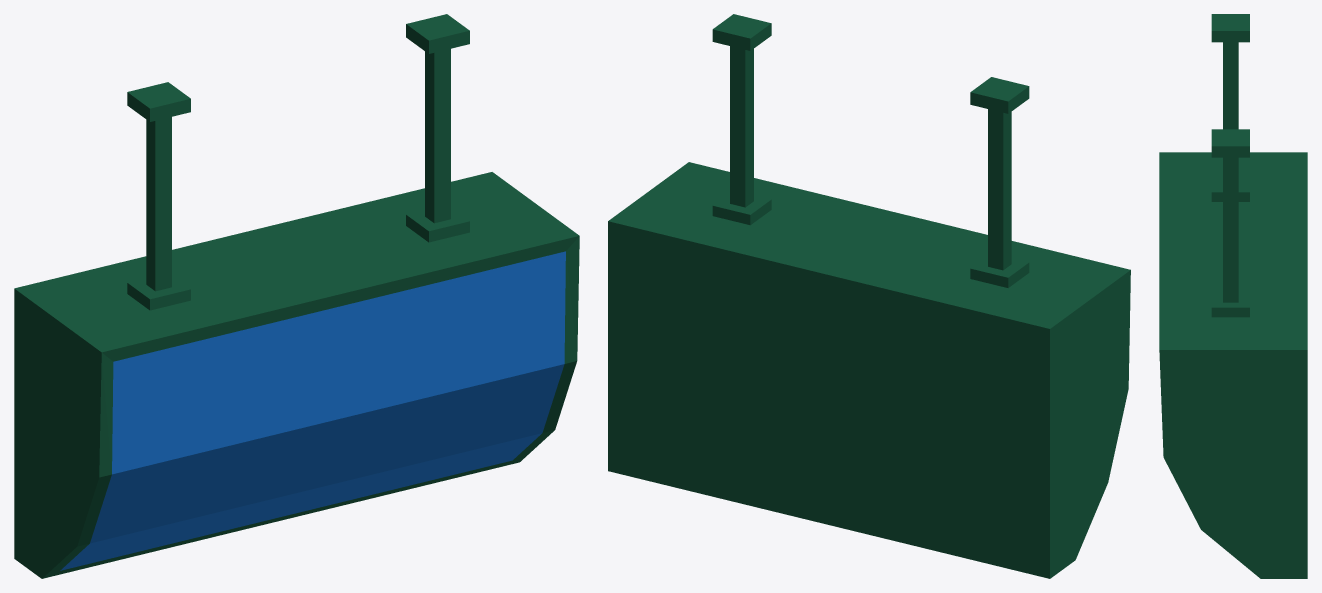
The model's file is T_menu2.fbx.
3 renders of one model, left to right at view 1: azimuth 30°, elevation 25°; view 2: azimuth 150°, elevation 25°; view 3: azimuth 270°, elevation 25°, orthographic. The views are drawn at different scales.
Visible parts, largest first — view 1: menu2; view 2: menu2; view 3: menu2.
Boxes of the visible parts, x1=… form: menu2: x1=14, y1=14, x2=579, y2=578; menu2: x1=608, y1=14, x2=1130, y2=578; menu2: x1=1159, y1=14, x2=1307, y2=578.
Size of the model in its own units: 100 by 94.39 by 31.69.
